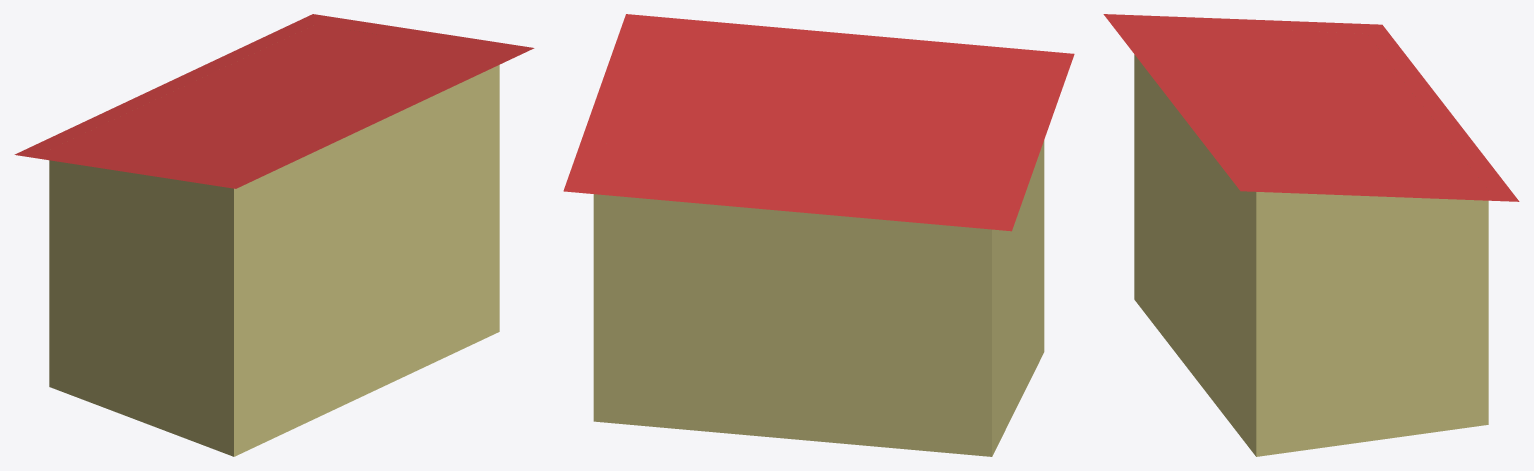
3 renders of one model, left to right at view 1: azimuth 30°, elevation 25°; view 2: azimuth 150°, elevation 25°; view 3: azimuth 270°, elevation 25°, orthographic. The views are drawn at different scales.
Bounding box in the file's own units: 10.39 × 8.47 × 6.26.
